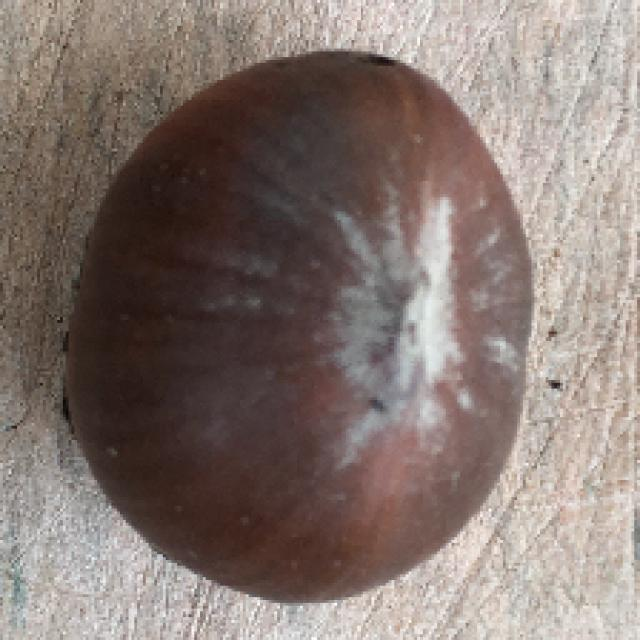damagedHazelnut: (52, 40, 533, 585)
